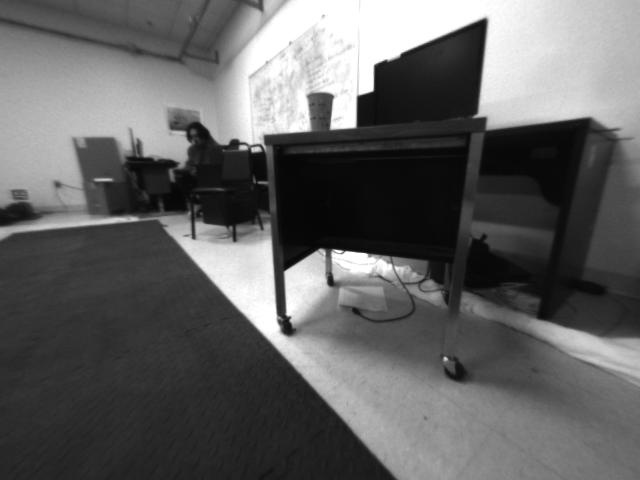coffee_cup: (302, 91, 334, 131)
